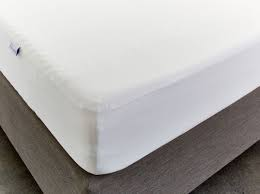bed-matress: (1, 1, 256, 176)
